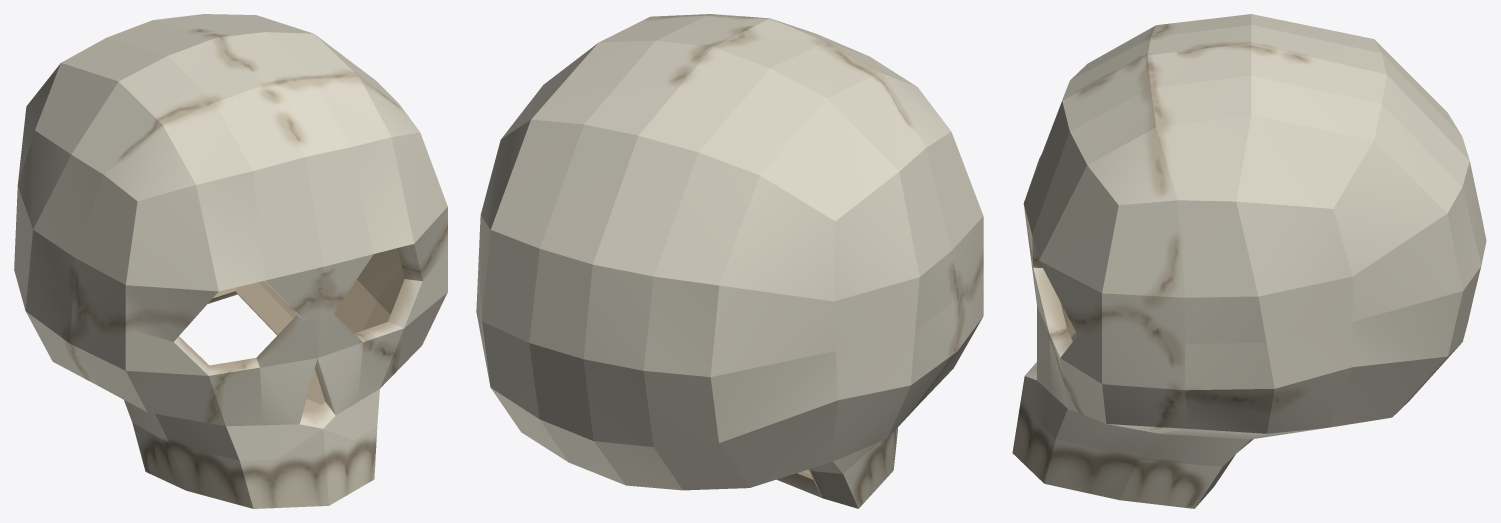
File: Skull.fbx
3 views of the same model, side by side, from view 1: azimuth 30°, elevation 25°; view 2: azimuth 150°, elevation 25°; view 3: azimuth 270°, elevation 25° (orthographic). The views are drawn at different scales.
Visible parts, largest first — view 1: skull; view 2: skull; view 3: skull.
Boxes of the visible parts, box(x1,y1,x2,y2) form: skull: box(14, 14, 447, 508); skull: box(476, 14, 983, 508); skull: box(1012, 14, 1486, 508).
Size of the model in its own units: 1.49 by 1.56 by 1.6.
